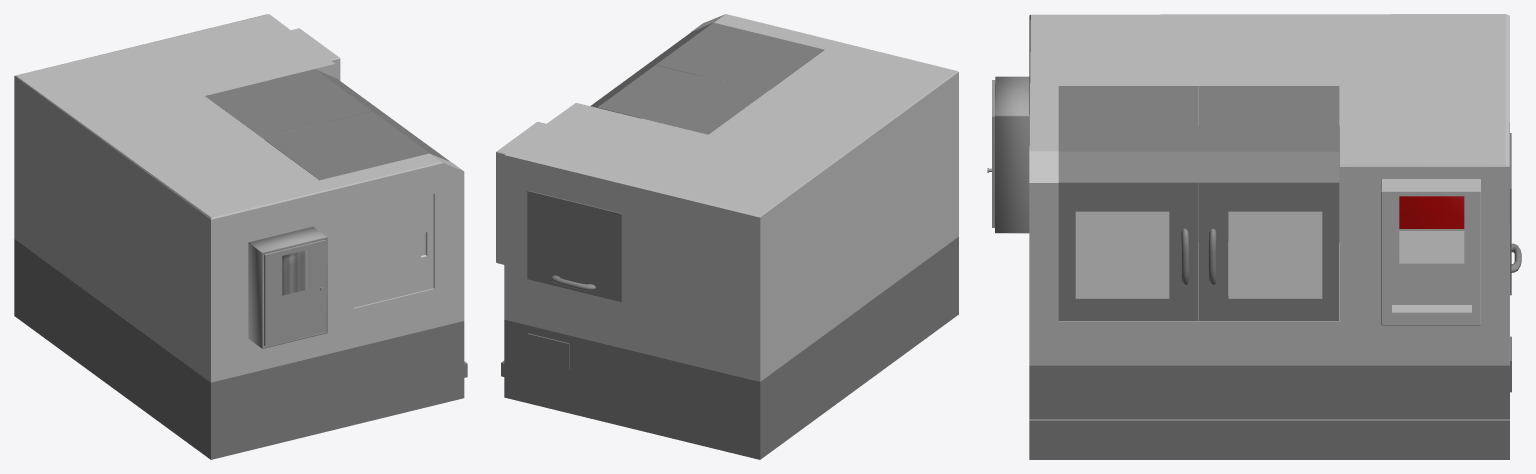
The model's file is cnc machine 1.fbx.
The picture shows the model from 3 angles, left to right: view 1: azimuth 30°, elevation 25°; view 2: azimuth 150°, elevation 25°; view 3: azimuth 270°, elevation 25°; orthographic projection. The views are drawn at different scales.
Parts seen in each view (by area): view 1: Cube, Circle, Circle.001, Cube.012, Cube.011; view 2: Cube, Circle.002, Circle, Circle.001; view 3: Cube, Circle, Circle.001, Cube.006, Cube.001, Cube.011, Plane, Plane.001, Circle.002.
Boxes of the visible parts, bbox=[...] form: Cube: bbox=[14, 14, 467, 459]; Circle: bbox=[263, 111, 450, 180]; Circle.001: bbox=[205, 69, 392, 137]; Cube.012: bbox=[264, 239, 326, 346]; Cube.011: bbox=[248, 226, 327, 348]; Cube: bbox=[496, 14, 958, 459]; Circle.002: bbox=[527, 190, 622, 302]; Circle: bbox=[634, 22, 824, 91]; Circle.001: bbox=[590, 65, 766, 134]; Cube: bbox=[1029, 14, 1511, 459]; Circle: bbox=[1058, 86, 1198, 320]; Circle.001: bbox=[1199, 86, 1339, 320]; Cube.006: bbox=[1075, 211, 1169, 298]; Cube.001: bbox=[1228, 211, 1322, 298]; Cube.011: bbox=[995, 76, 1029, 233]; Plane: bbox=[1399, 231, 1464, 263]; Plane.001: bbox=[1399, 196, 1464, 228]; Circle.002: bbox=[1510, 133, 1521, 295].
Bounding box in the file's own units: 518 × 436 × 716.
